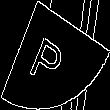P_NE: (34, 24, 76, 86)
